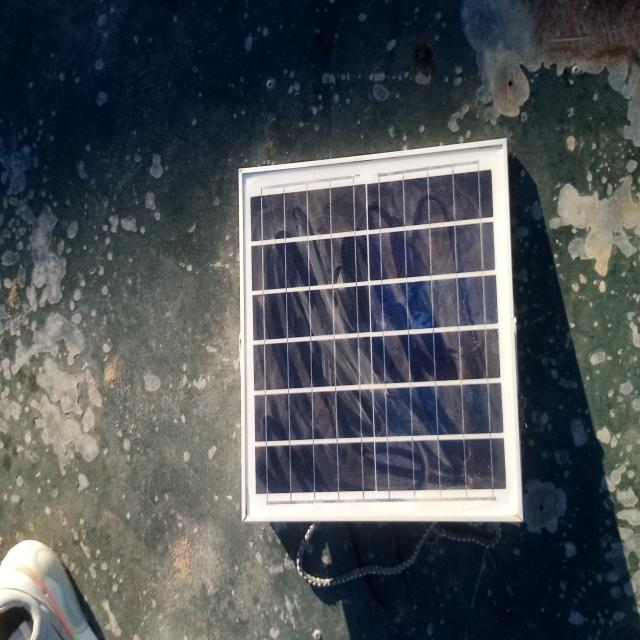faulty: (240, 146, 520, 521)
